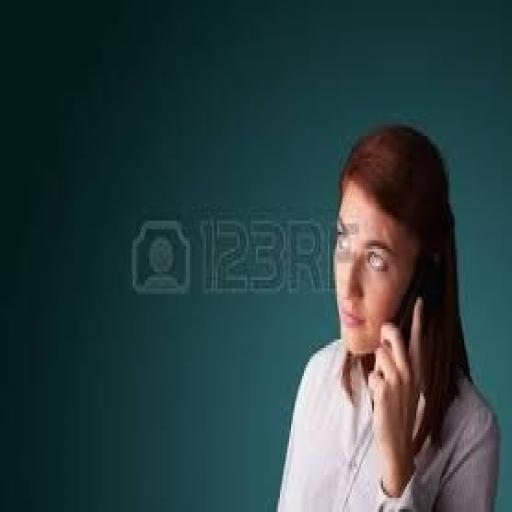calling: (273, 119, 501, 509)
